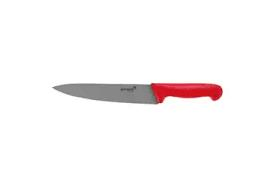Knife: (51, 82, 223, 104)
